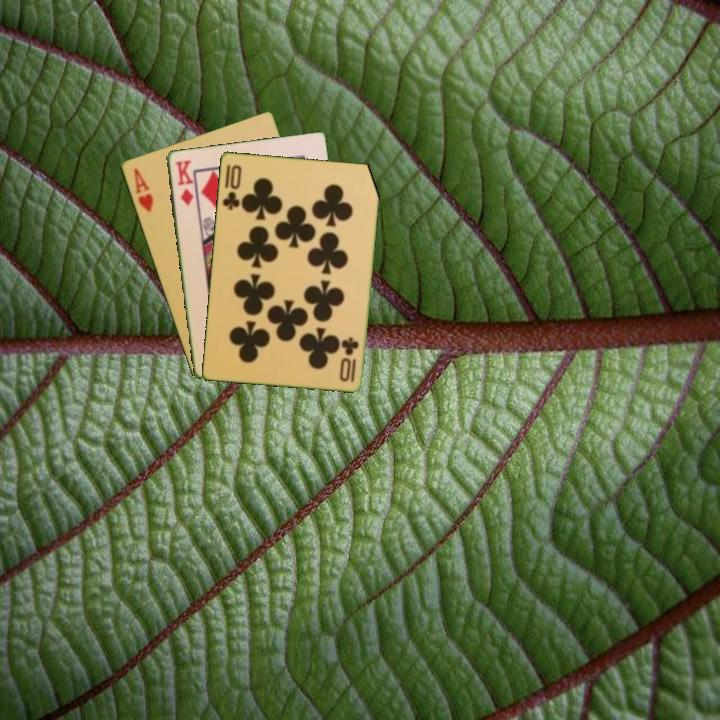10c: (219, 161, 244, 212), (339, 333, 361, 385)
Ah: (130, 164, 156, 215)
Kd: (172, 157, 196, 209)
